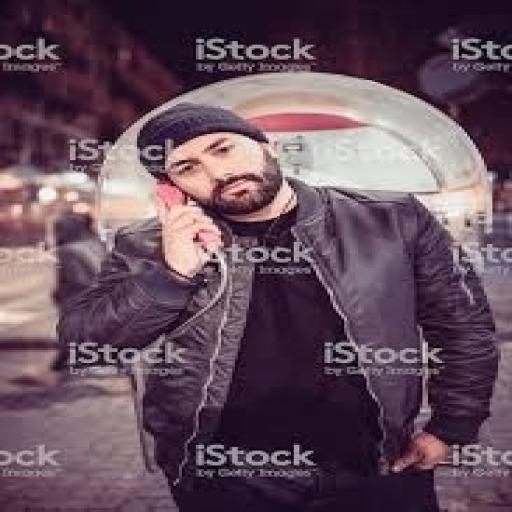calling: (53, 101, 501, 510)
